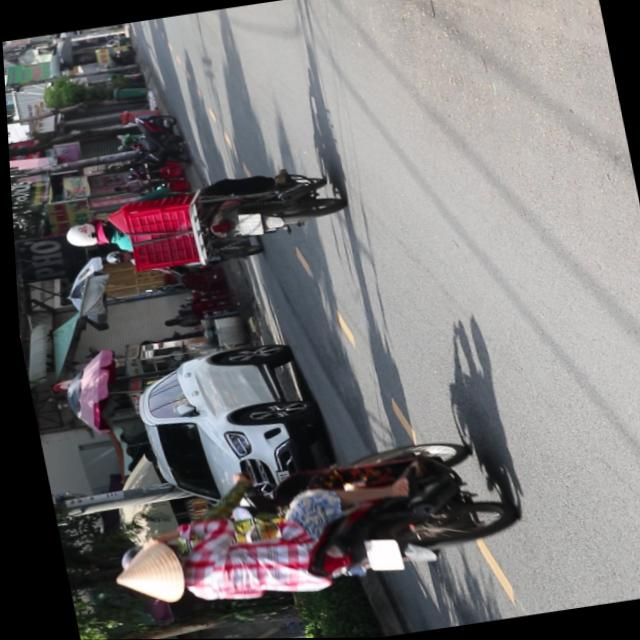helmet: (58, 219, 109, 253)
licenseplate: (84, 430, 522, 625), (50, 161, 346, 276)
motorcyclist: (98, 532, 191, 612)
nohelmet: (357, 538, 394, 575), (231, 213, 261, 239)
